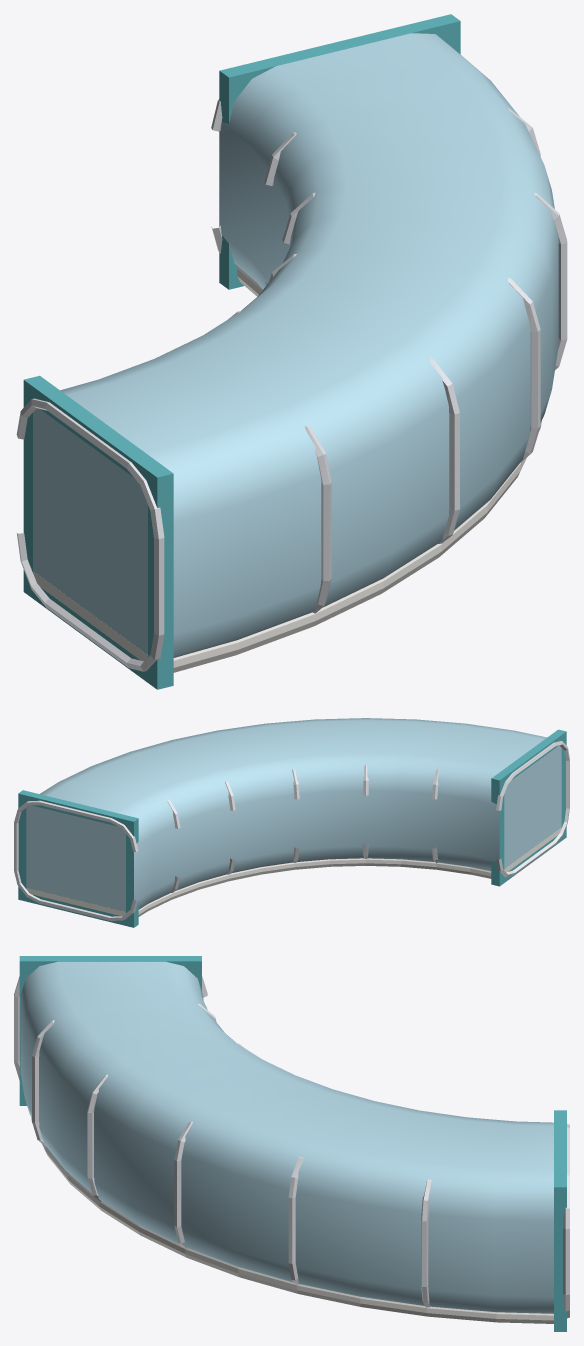
The model's file is arcology-towers-and-skyways-skybridge-curved-span-c49c5f66__23248.glb.
3 views of the same model, one above another, from view 1: azimuth 30°, elevation 25°; view 2: azimuth 150°, elevation 25°; view 3: azimuth 270°, elevation 25° (orthographic). The views are drawn at different scales.
Parts seen in each view (by area): view 1: skybridge-curved-span; view 2: skybridge-curved-span; view 3: skybridge-curved-span.
Boxes of the visible parts, <box> form: skybridge-curved-span: <box>16,14,567,689</box>; skybridge-curved-span: <box>14,718,569,927</box>; skybridge-curved-span: <box>14,956,569,1331</box>.
Size of the model in its own units: 14.66 by 4.2 by 14.63.
